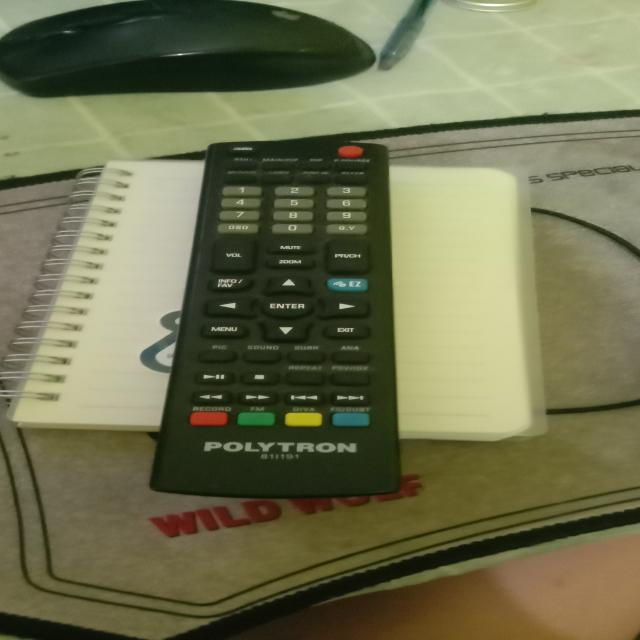remote: (125, 140, 413, 505)
